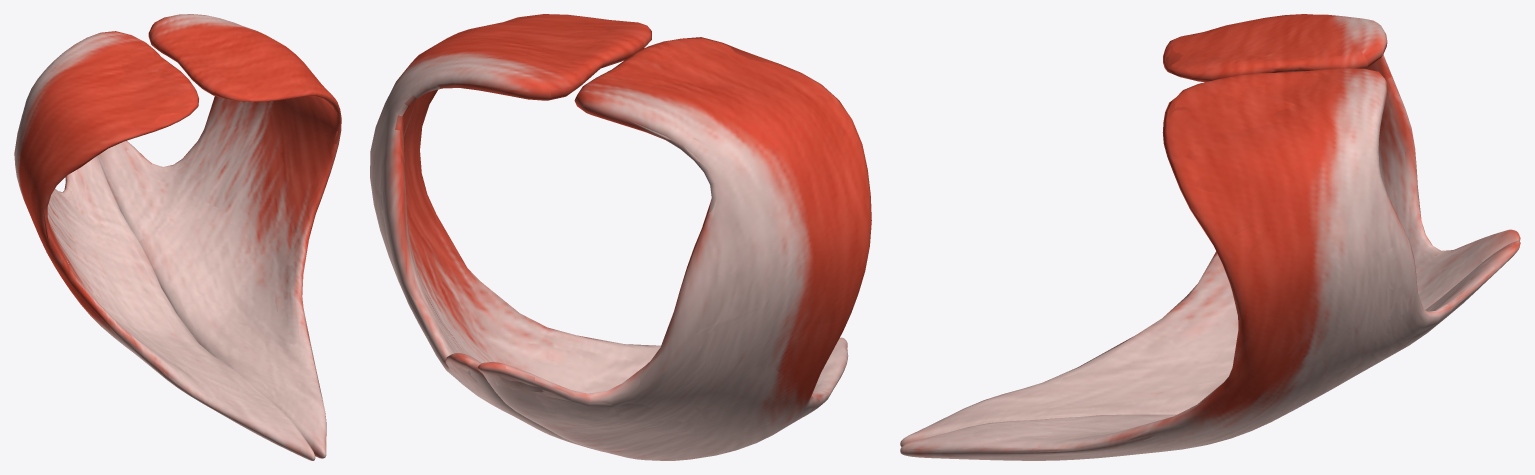
The model's file is Transversus Abdominis.fbx.
The picture shows the model from 3 angles, left to right: view 1: azimuth 30°, elevation 25°; view 2: azimuth 150°, elevation 25°; view 3: azimuth 270°, elevation 25°; orthographic projection. The views are drawn at different scales.
Visible parts, largest first — view 1: Transversus Abdominis, Transversus Abdominis low; view 2: Transversus Abdominis, Transversus Abdominis low; view 3: Transversus Abdominis, Transversus Abdominis low.
Boxes of the visible parts, x1=… form: Transversus Abdominis: x1=14, y1=14, x2=341, y2=460; Transversus Abdominis low: x1=15, y1=14, x2=340, y2=456; Transversus Abdominis: x1=370, y1=14, x2=871, y2=460; Transversus Abdominis low: x1=370, y1=17, x2=871, y2=451; Transversus Abdominis: x1=900, y1=14, x2=1520, y2=460; Transversus Abdominis low: x1=903, y1=14, x2=1520, y2=455.
Bounding box in the file's own units: 55.66 × 53.74 × 76.04.
